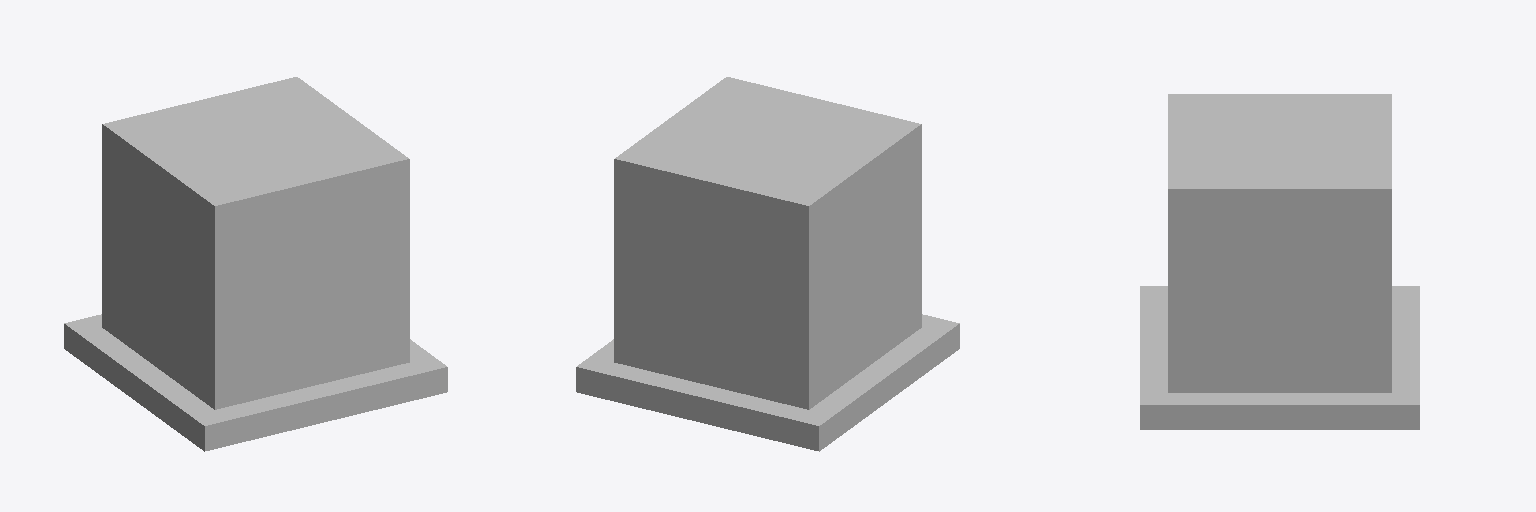
Rendered from top_hat.obj.
3 views of the same model, side by side, from view 1: azimuth 30°, elevation 25°; view 2: azimuth 150°, elevation 25°; view 3: azimuth 270°, elevation 25° (orthographic).
Parts seen in each view (by area): view 1: Shape2, Shape1; view 2: Shape2, Shape1; view 3: Shape2, Shape1.
Part boxes in pixels (bbox=[...]): Shape2: bbox=[102, 77, 409, 409]; Shape1: bbox=[64, 314, 447, 451]; Shape2: bbox=[614, 77, 921, 409]; Shape1: bbox=[576, 314, 959, 451]; Shape2: bbox=[1168, 94, 1391, 392]; Shape1: bbox=[1140, 286, 1419, 429].
Size of the model in its own units: 0.625 by 0.5625 by 0.625.